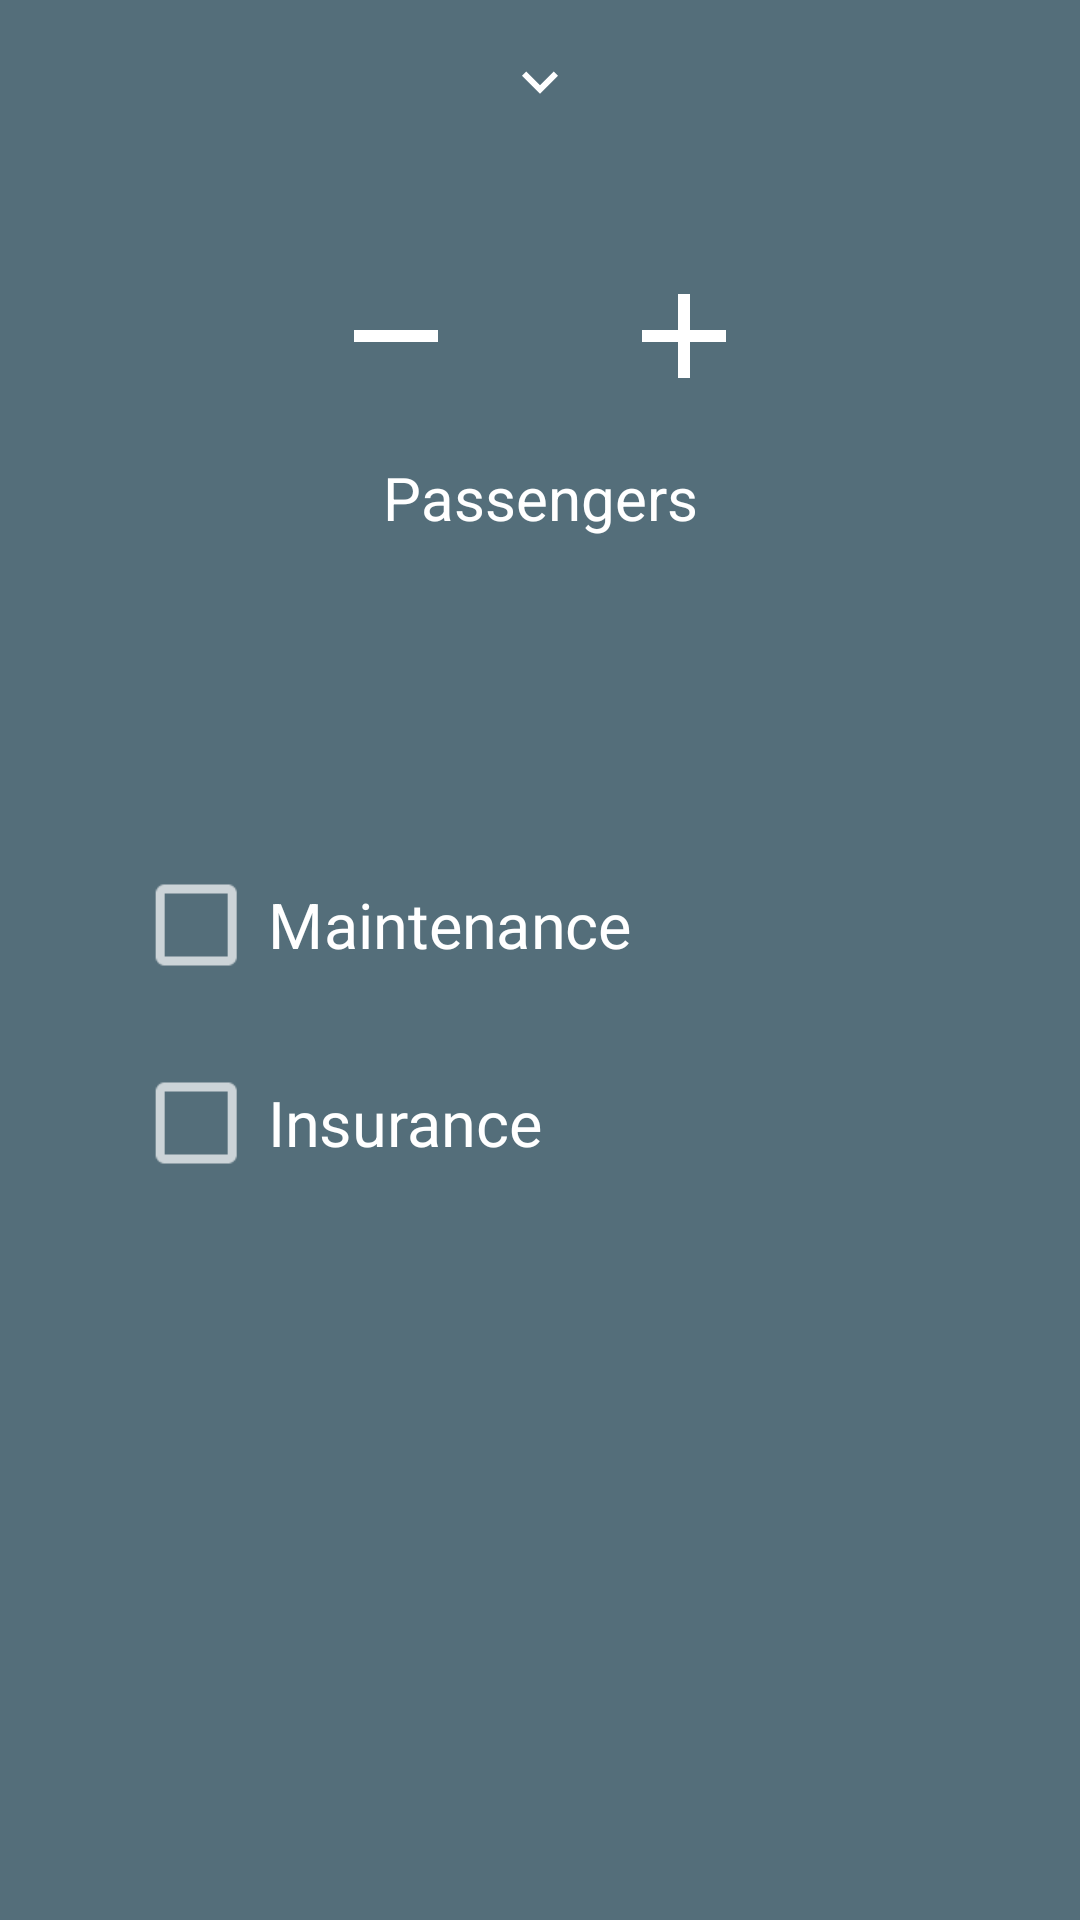

Icon click points for this 1080px×1920px phone screenshot, format (x,y):
add: (684,336)
keyboard arrow down: (540,82)
